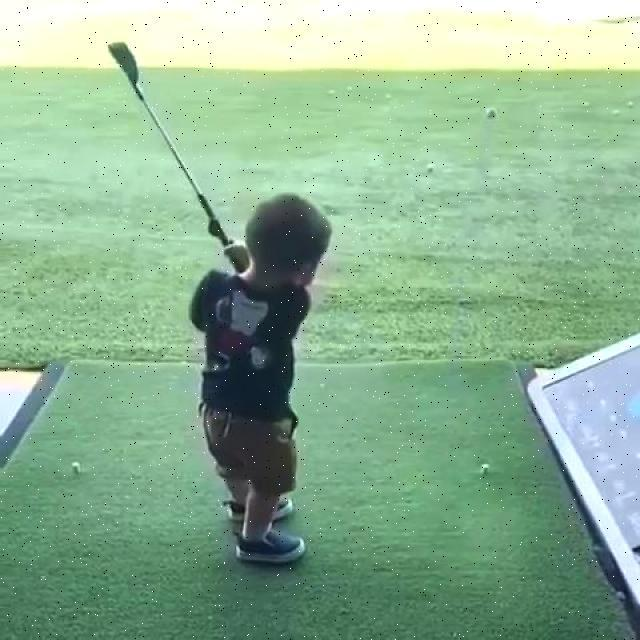golf club-handle: (108, 43, 234, 245)
golf club-head: (107, 43, 140, 83)
